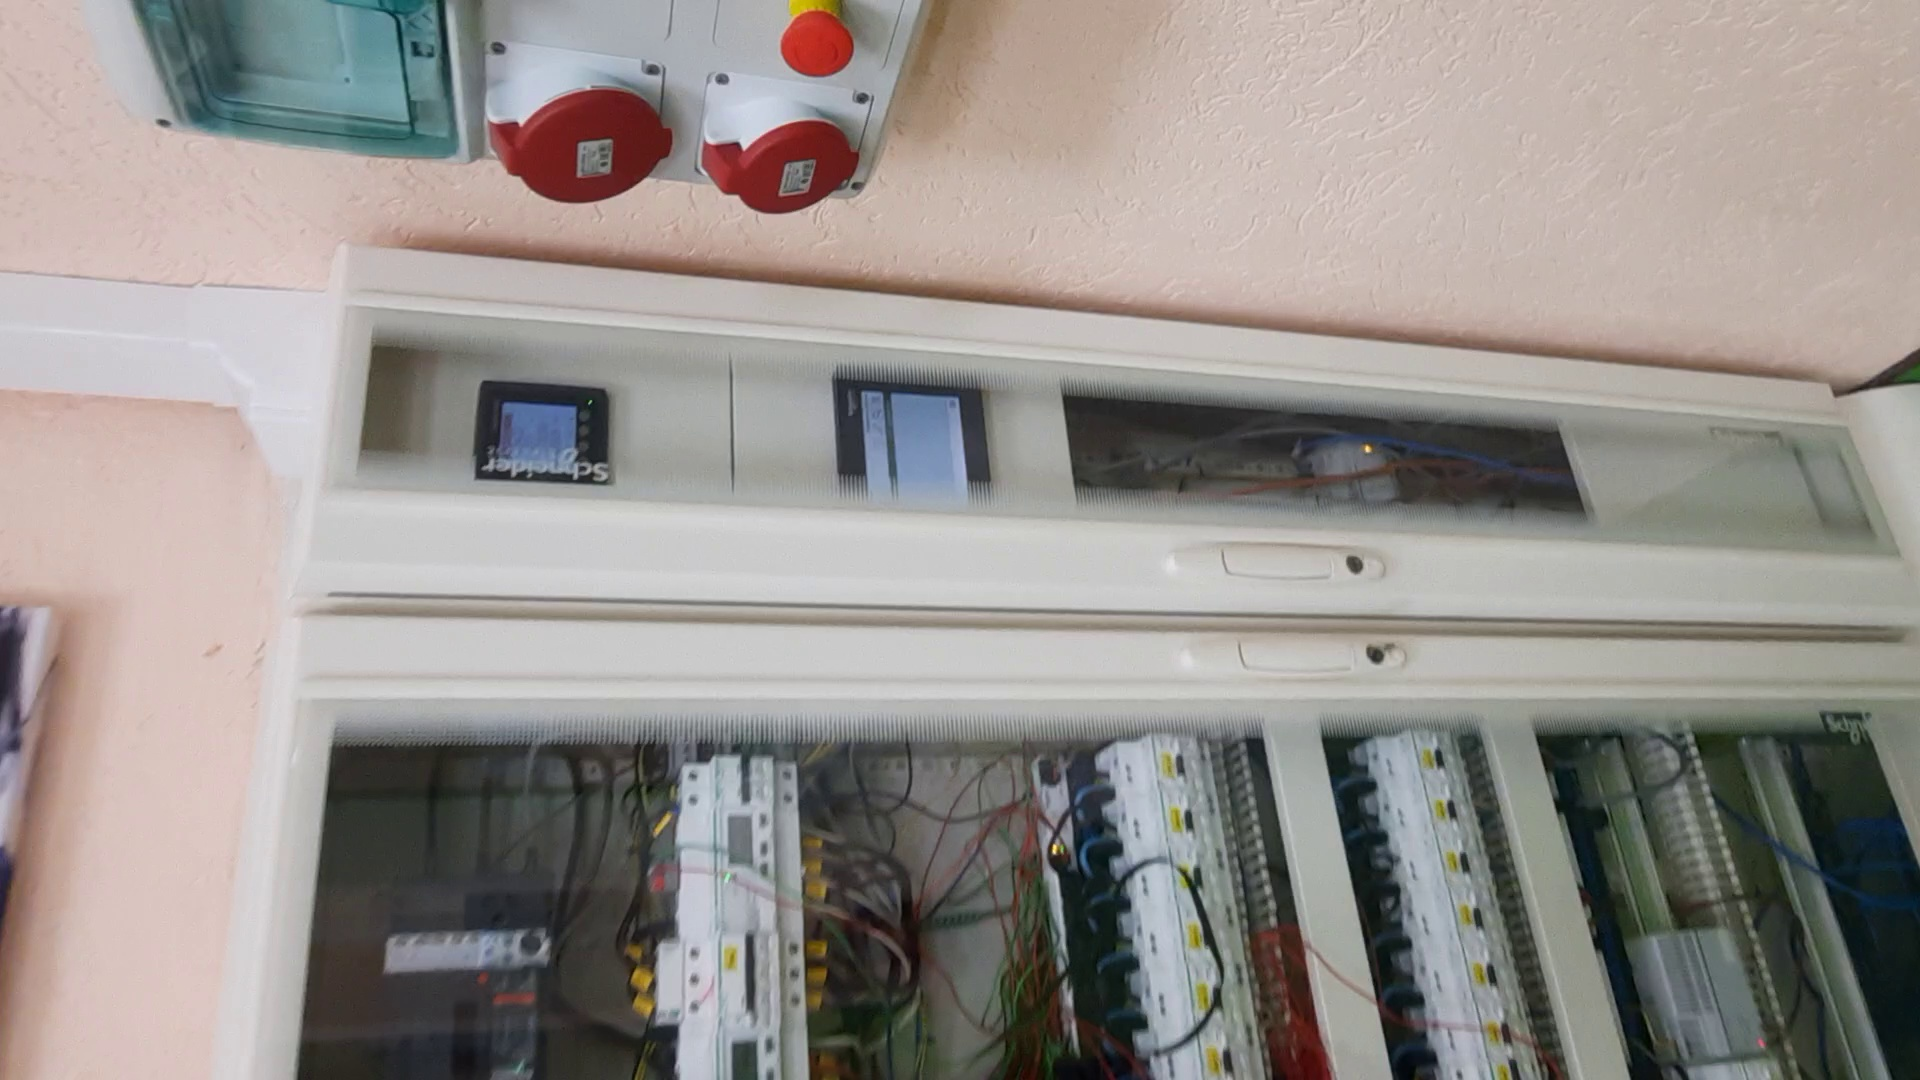stand1: (237, 239, 1917, 1077)
